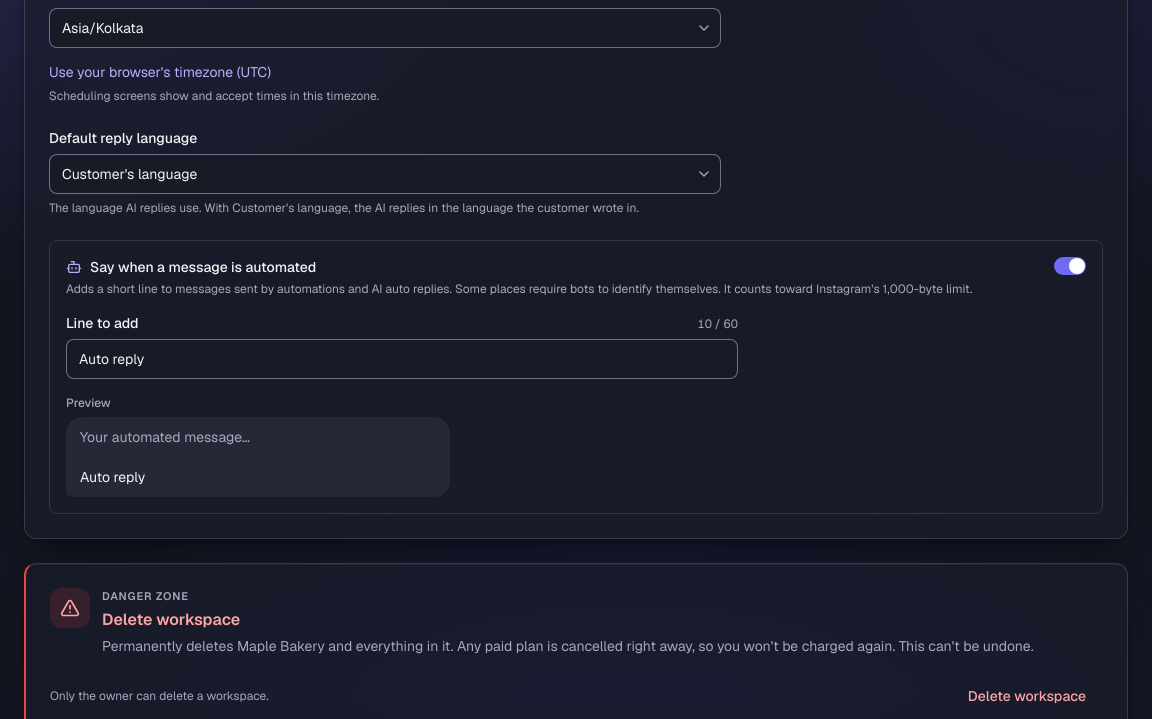
Test: automation disclosure (FR-AUT-11) › an empty line while on is an error, not a save
(page scrolled)
Clear the field labelled "Line to add" at (402, 359), box [66, 339, 738, 379]
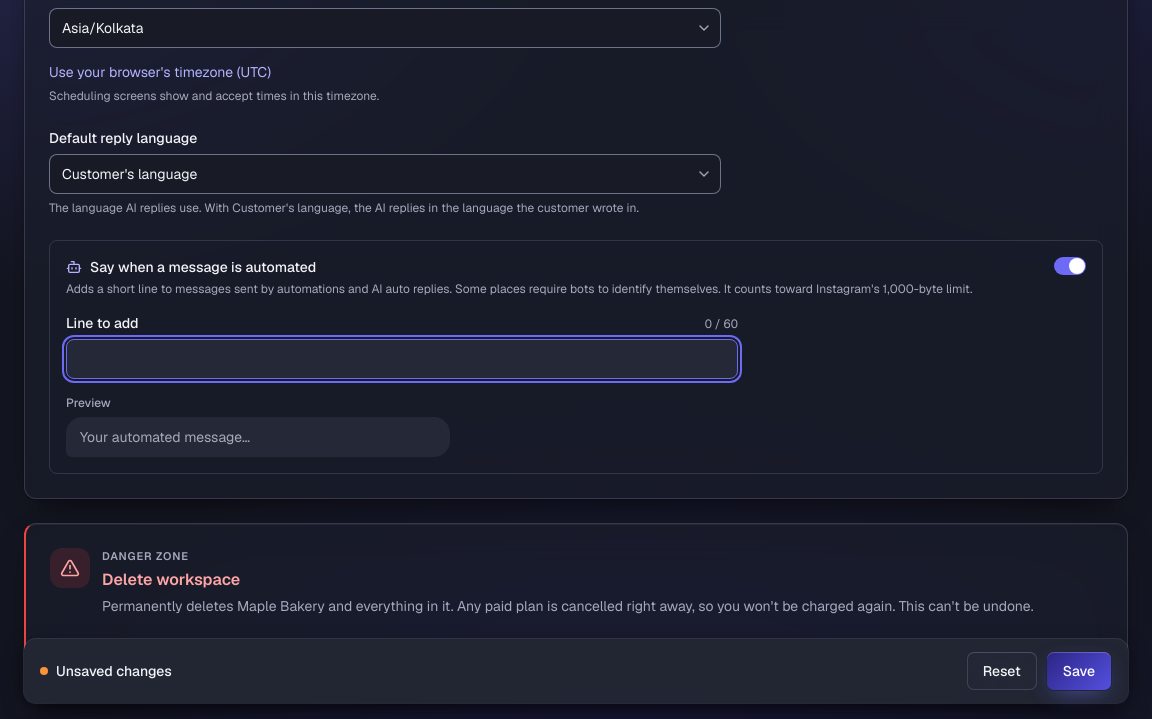
Click the button "Save" at (1079, 671), box [1046, 651, 1112, 691]
(page scrolled)
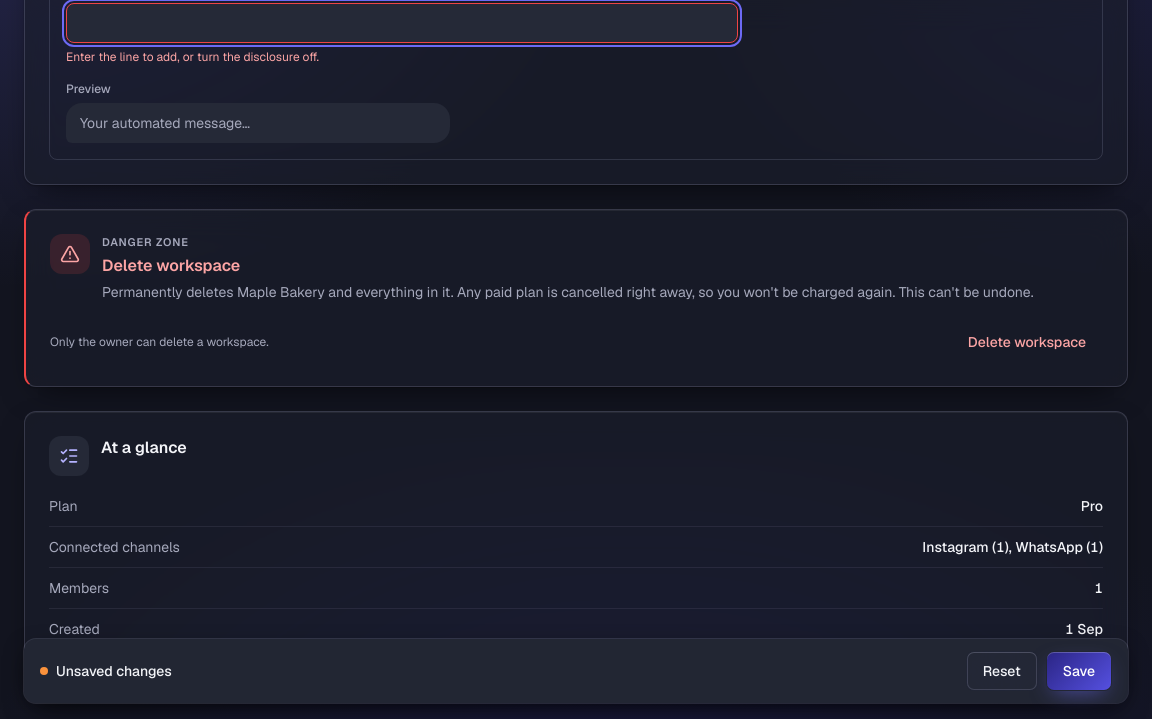
Now the message "Enter the line to add, or turn the disclosure off." is shown, box [66, 49, 319, 65]
